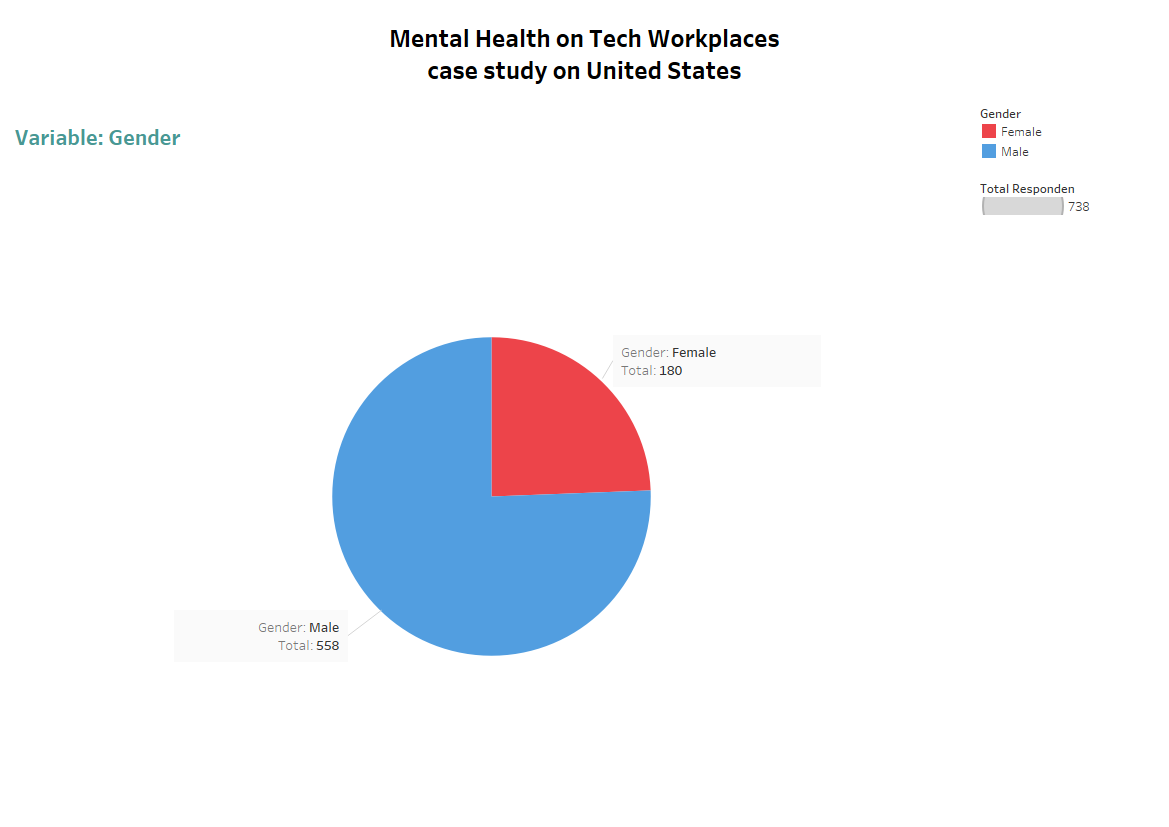

Layout of this report page (visuals, bound fields, positions):
{"tool":"tableau","page":{"name":"Dashboard-Gender","canvas":[1169,827],"ordinal":1},"visuals":[{"type":"text","box":[8,8,1153,91]},{"type":"text","box":[8,99,967.2,75]},{"type":"legend","title":"Gender","param":"[federated.1tl0ebl1hrtyk51gaoeep0l83vm1].[none:Gender:nk]","box":[975.2,99,185.8,75]},{"type":"worksheet","title":"Gender","mark":"Pie","box":[8,174,967.2,645]},{"type":"legend","title":"Gender","param":"[federated.1tl0ebl1hrtyk51gaoeep0l83vm1].[__tableau_internal_object_id__].[cnt:W","box":[975.2,174,185.8,645]}]}

Visuals, with their boxes in screenshot pixels (x1, y1, x2, y2), scaled from the page's 1169x827 canvas onto the 1169x827 screenshot:
text: (left=8, top=8, right=1161, bottom=99)
text: (left=8, top=99, right=975, bottom=174)
"Gender" legend: (left=975, top=99, right=1161, bottom=174)
"Gender" worksheet (Pie marks): (left=8, top=174, right=975, bottom=819)
"Gender" legend: (left=975, top=174, right=1161, bottom=819)
